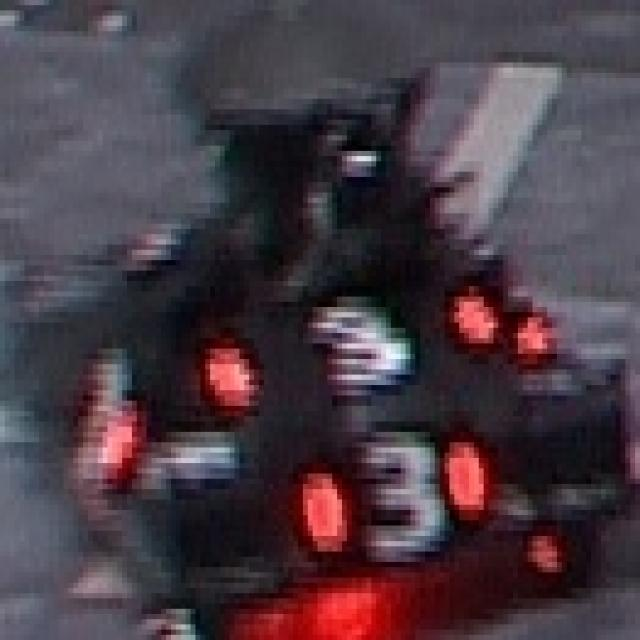R3: (303, 426, 488, 556)
